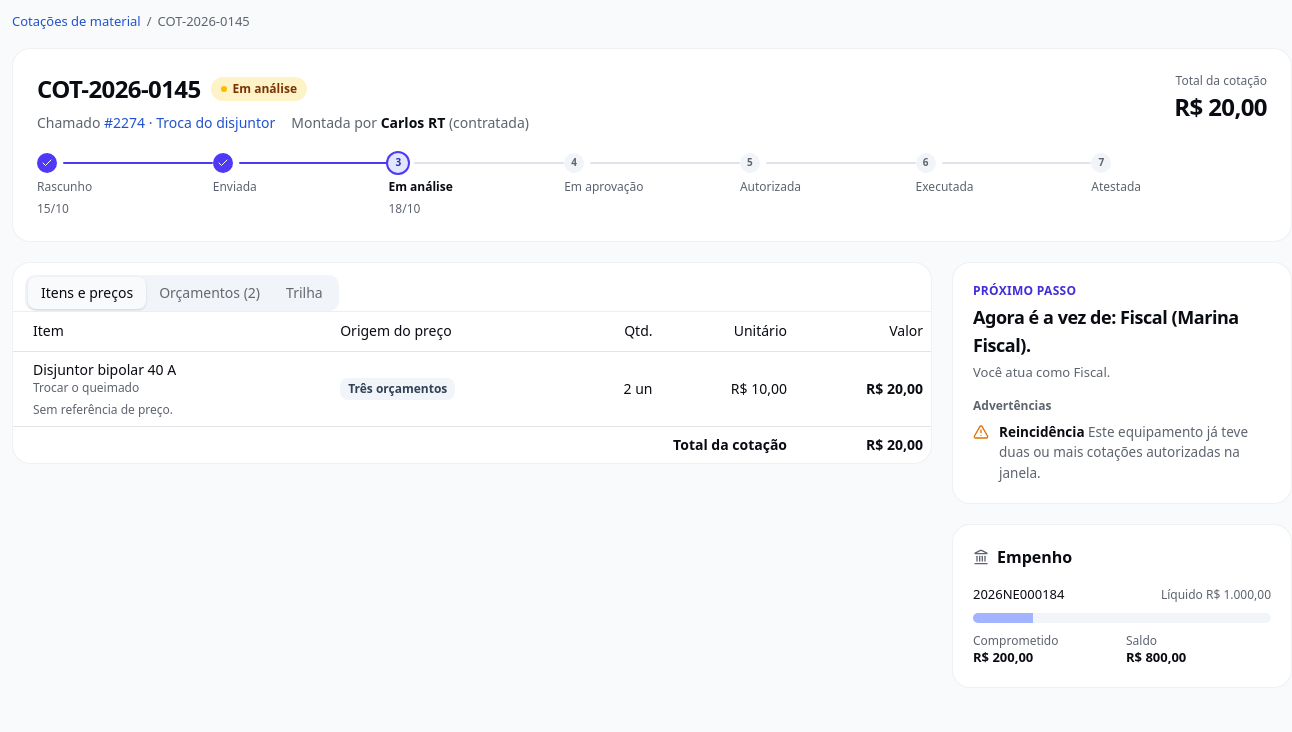
Test: DetalheCotacaoView › as abas trazem os orçamentos em grade, com o menor preço, e a trilha com a conciliação (AC-7)
The image size is (1292, 732).
Click the tab "Orçamentos (2)".
click(210, 292)  # box [146,276,273,308]
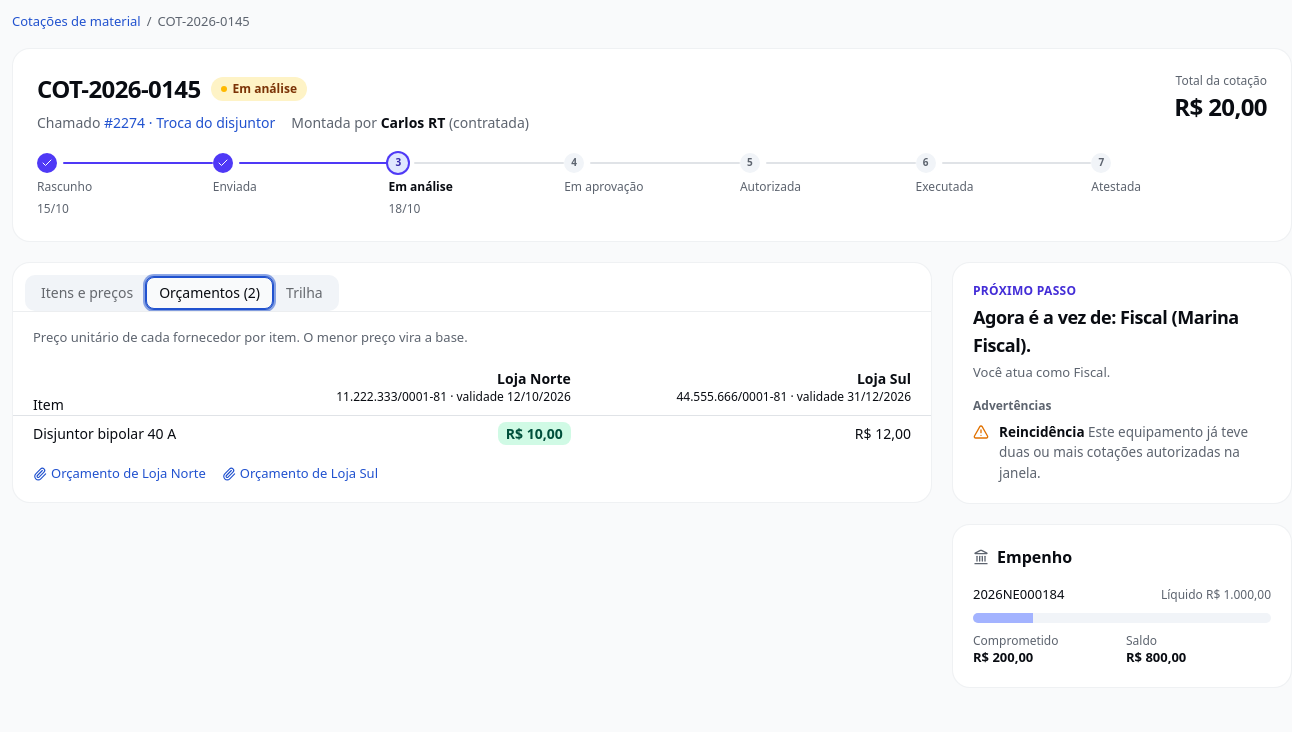
Check: the text "Loja Norte" is shown, box [497,369,571,388]
Check: the text "R$ 12,00" is shown, box [855,424,911,443]
Click the tab "Trilha".
click(304, 292)  # box [273,276,336,308]
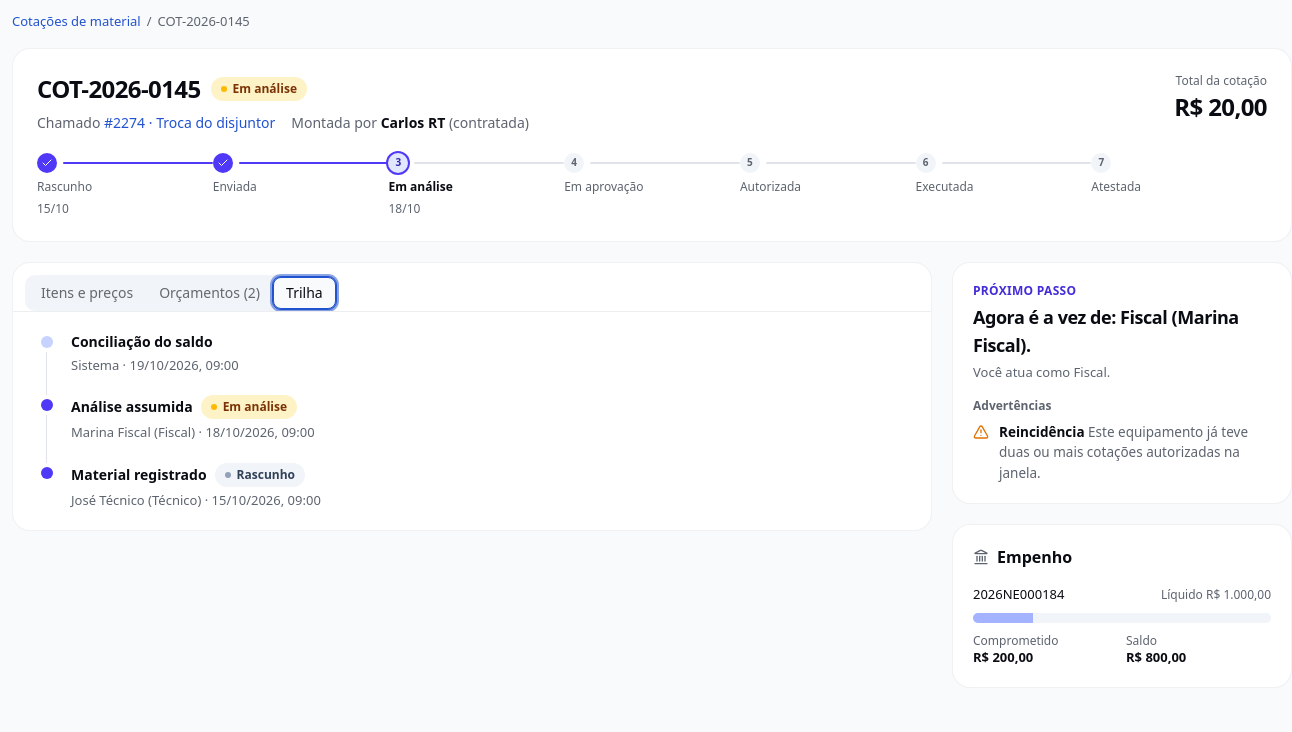
Check: the text "Conciliação do saldo" is shown, box [71,332,213,350]
Check: the text "Marina Fiscal (Fiscal) · 18/10/2026, 09:00" is shown, box [71,423,315,441]
